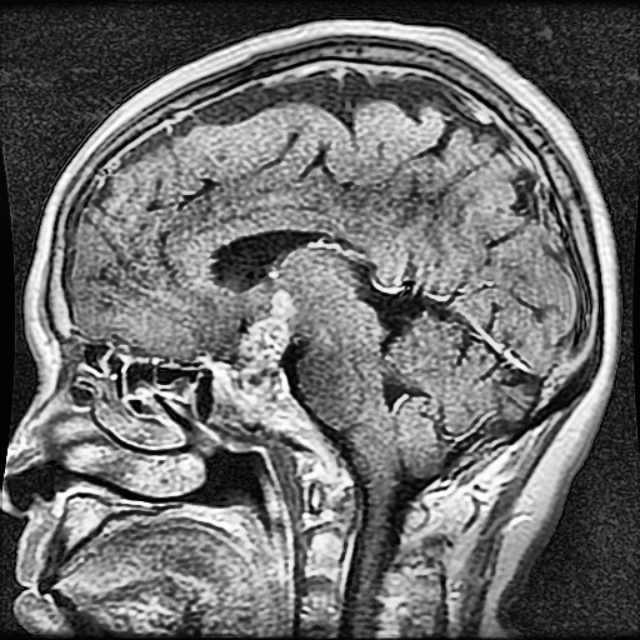Pituitary: (237, 294, 294, 395)
